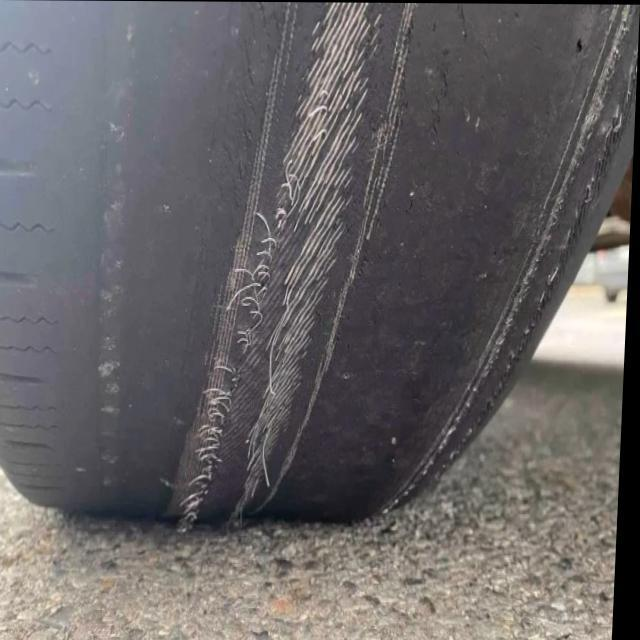Flat spots: (0, 0, 377, 521), (392, 0, 482, 454), (498, 0, 626, 249)
